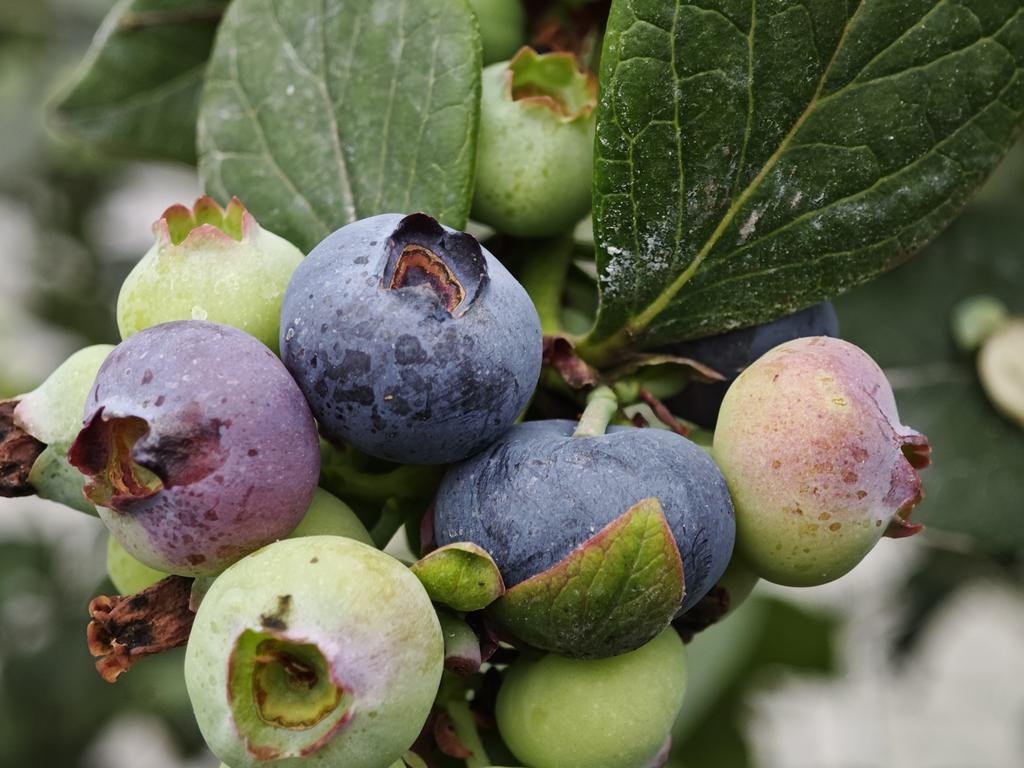RipeBlueBerry: (284, 214, 543, 464), (489, 419, 734, 607)
Semi-RipeBlueBerry: (71, 322, 317, 578), (723, 337, 920, 588)
UnripeBlueBerry: (181, 533, 446, 768)
